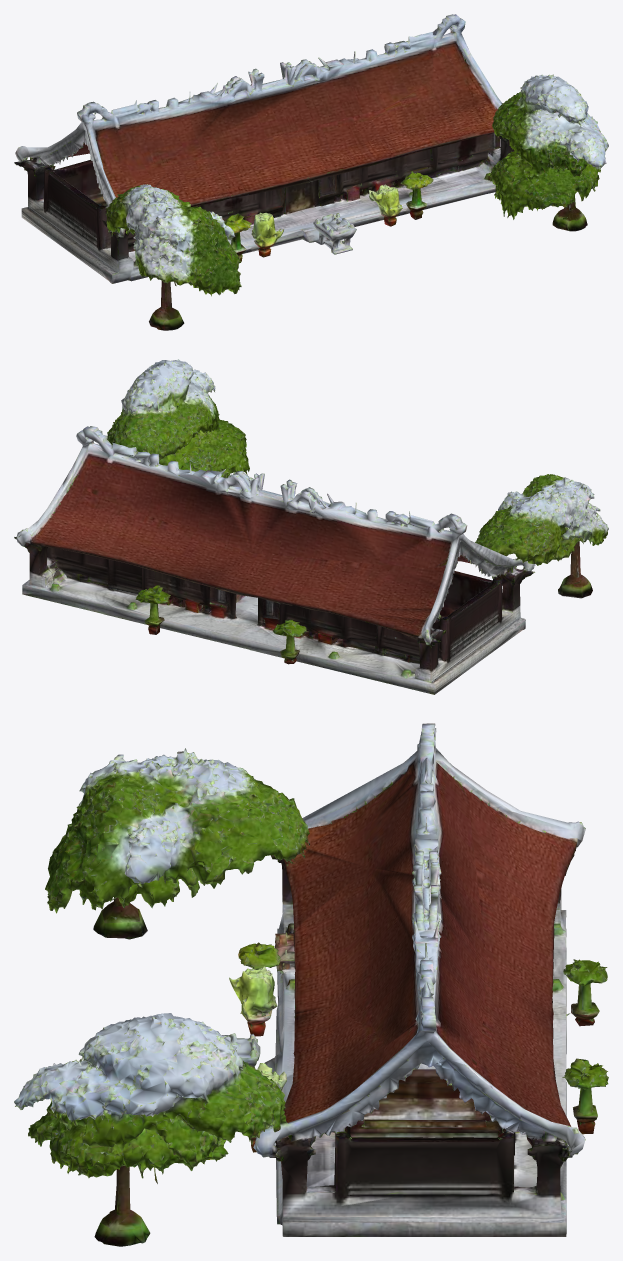
File: dinhhk.glb
The picture shows the model from 3 angles, top to bottom: view 1: azimuth 30°, elevation 25°; view 2: azimuth 150°, elevation 25°; view 3: azimuth 270°, elevation 25°; orthographic projection. The views are drawn at different scales.
Visible parts, largest first — view 1: Mesh_0; view 2: Mesh_0; view 3: Mesh_0.
Part boxes in pixels (x1,y1,x2,y2): Mesh_0: (14, 14, 608, 330); Mesh_0: (14, 359, 608, 694); Mesh_0: (14, 723, 608, 1246).
Size of the model in its own units: 1.9 by 0.5591 by 1.36.
Materials: 1 (1 with a texture image).
